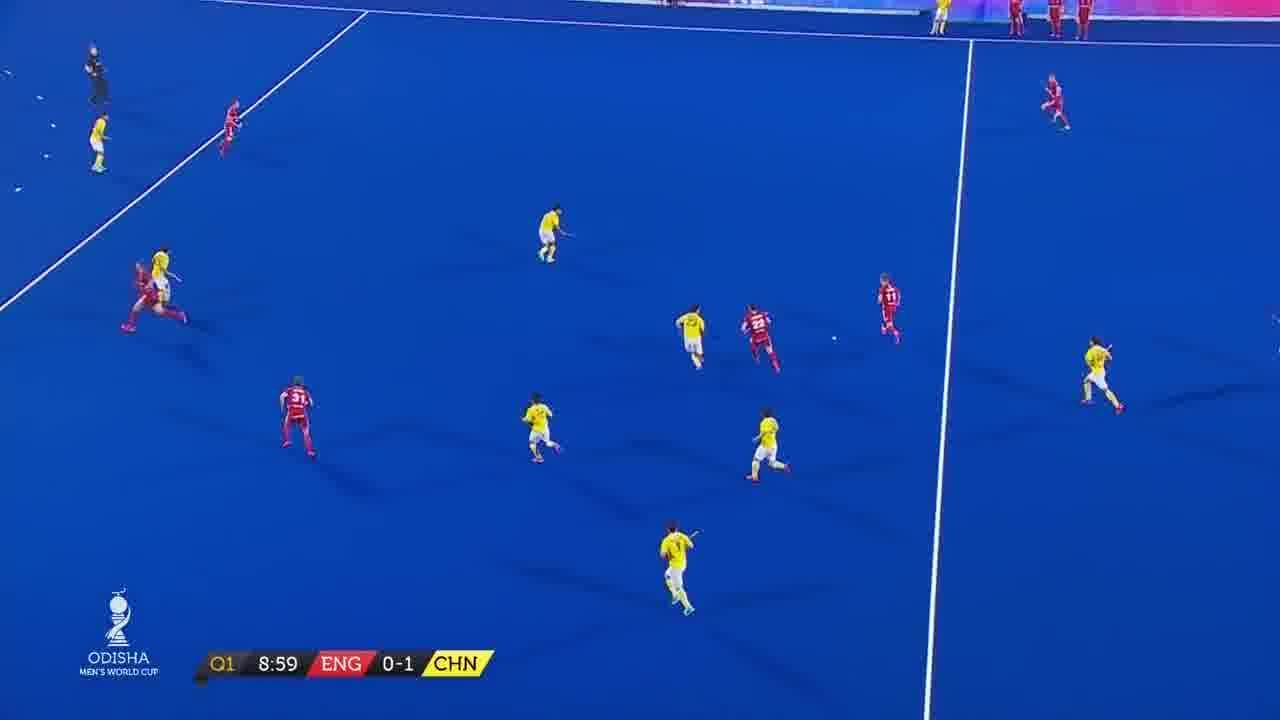ball: (830, 334, 840, 344)
